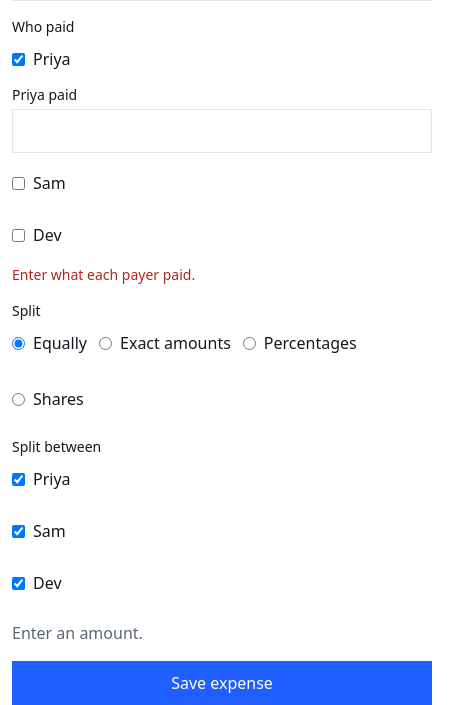
it: the split-type control › swaps the inputs shown without navigating
(page scrolled)
Expected: the field labelled "Amount for Priya" is not shown
Expected: the field labelled "Percent for Priya" is not shown
What coordinates should you click on to do the following:
click the radio button labelled "Exact amounts"
I would click on:
 (106, 343)
Its box is [99,336,112,350].
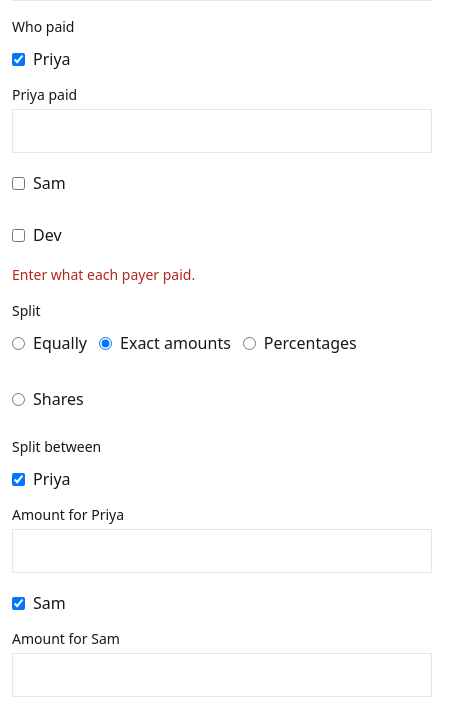
Expected: the field labelled "Amount for Priya" is shown, [12,529,432,573]
Expected: the field labelled "Amount for Sam" is shown, [12,653,432,697]
Note: Swapping replaces rather than adds: the previous type's inputs are gone, not hidden.
What coordinates should you click on to do the following:
click the radio button labelled "Percentages"
I would click on:
 (249, 343)
Its box is [243,336,256,350].
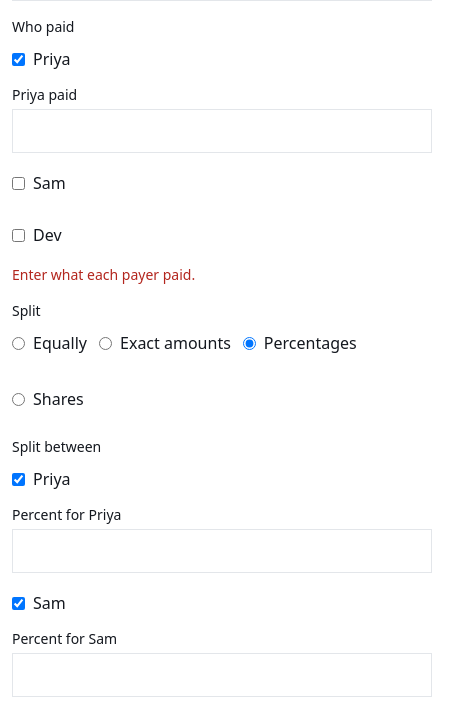
Expected: the field labelled "Percent for Priya" is shown, [12,529,432,573]
Expected: the label labelled "Amount for Priya" is gone
What coordinates should you click on to do the following:
click the radio button labelled "Shares"
I would click on:
 (18, 399)
Its box is [12,392,25,406].
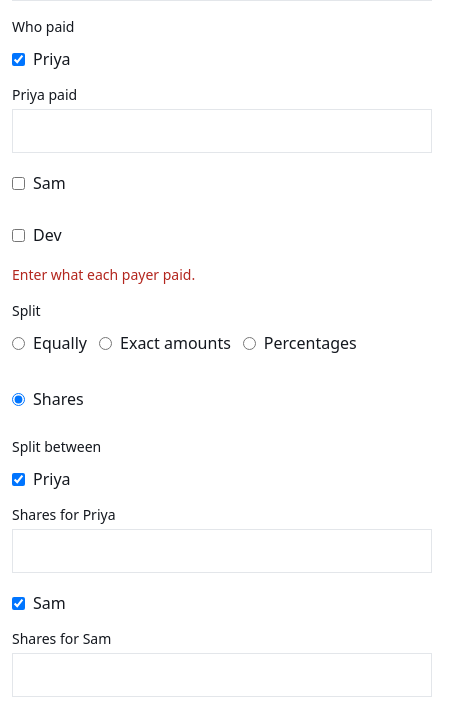
Expected: the field labelled "Shares for Priya" is shown, [12,529,432,573]
What coordinates should you click on to do the following:
click the radio button labelled "Equally"
I would click on:
 (18, 343)
Its box is [12,336,25,350].
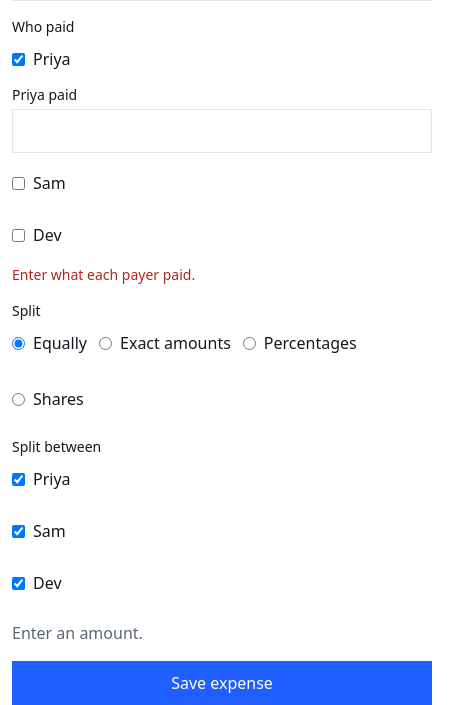
Expected: the label labelled "Shares for Priya" is gone
